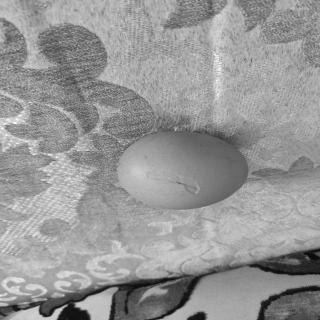Telur: (118, 132, 250, 212)
